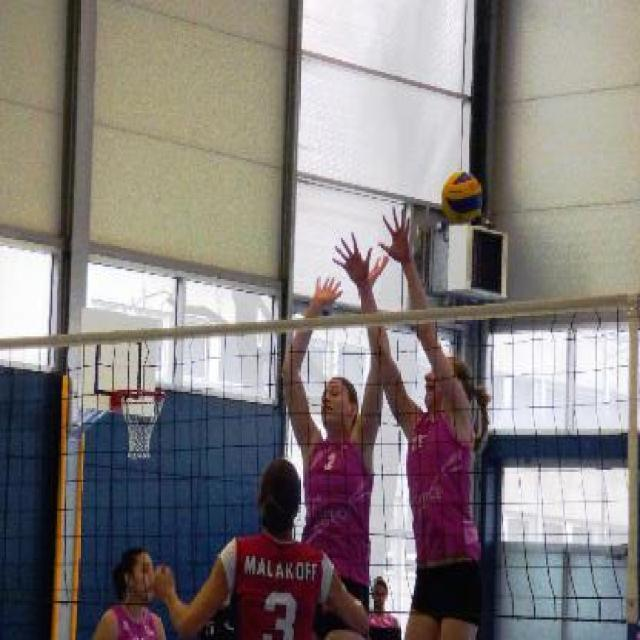volleyball: (441, 170, 482, 224)
